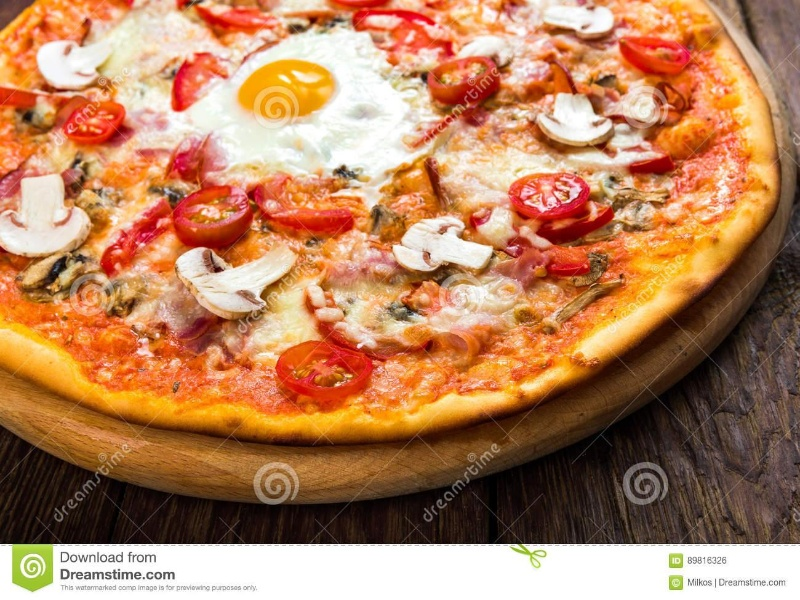champignon: (167, 236, 306, 323), (1, 166, 97, 284), (381, 211, 510, 289), (517, 87, 624, 151), (31, 34, 126, 104)
oeuf: (221, 45, 355, 145)
